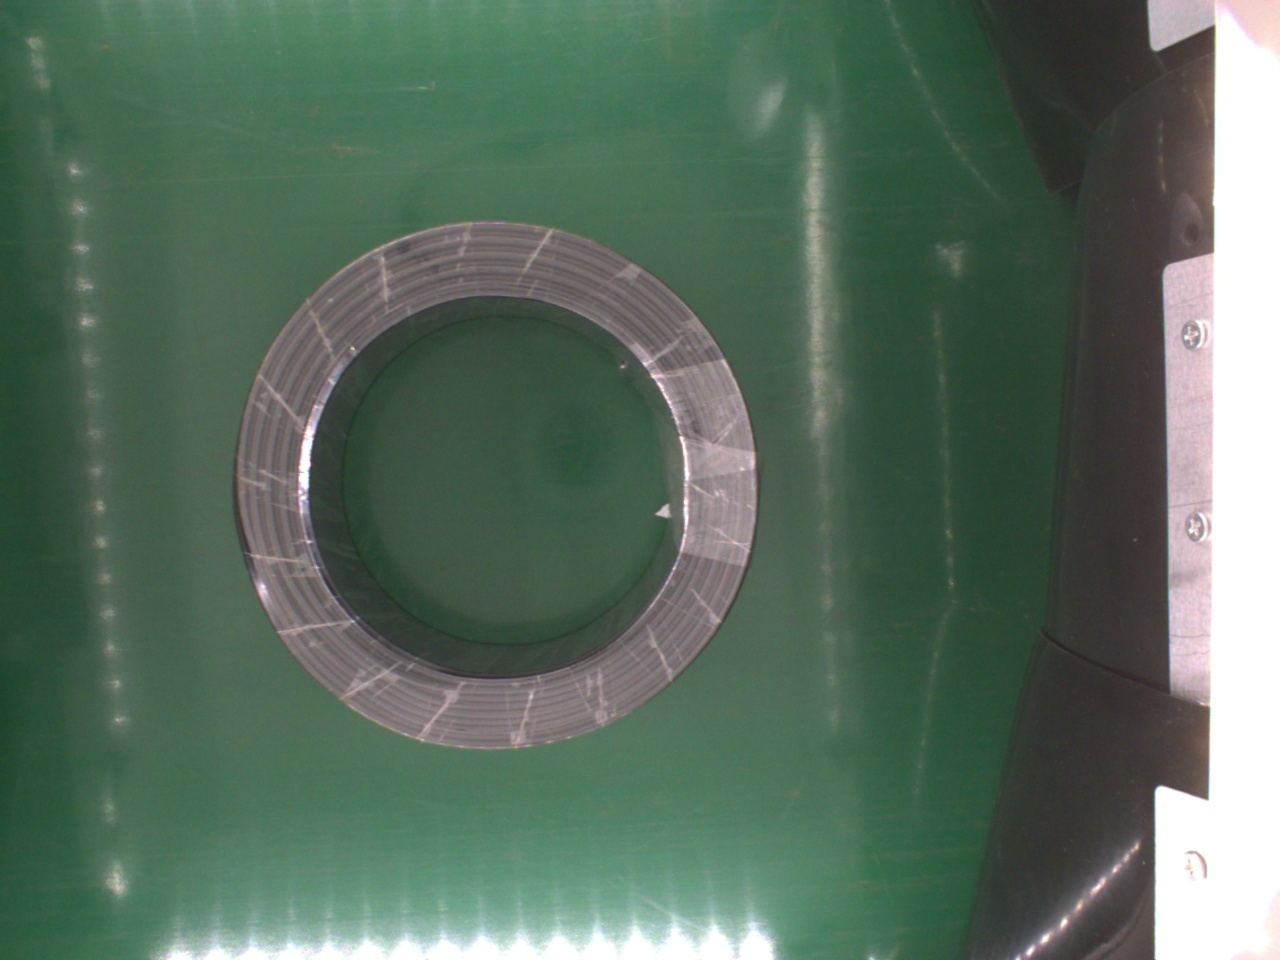black: (230, 218, 760, 749)
